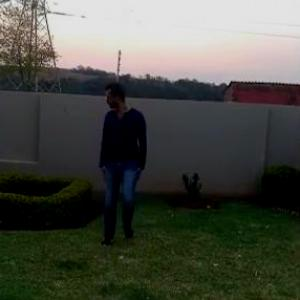follow: (97, 80, 147, 250)
